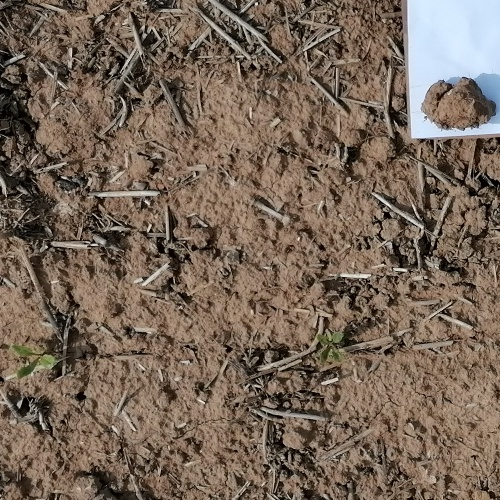beet: (10, 346, 58, 382), (315, 333, 345, 366)
